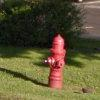Hydrant: (43, 26, 76, 92)
